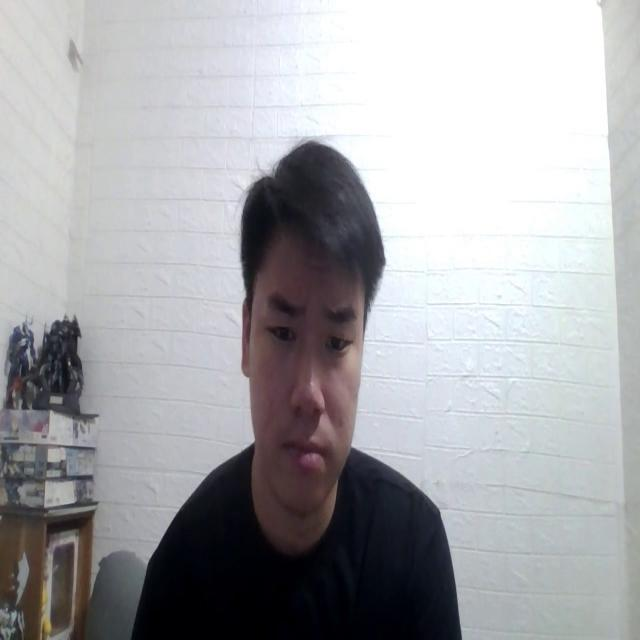student: (129, 129, 456, 640)
